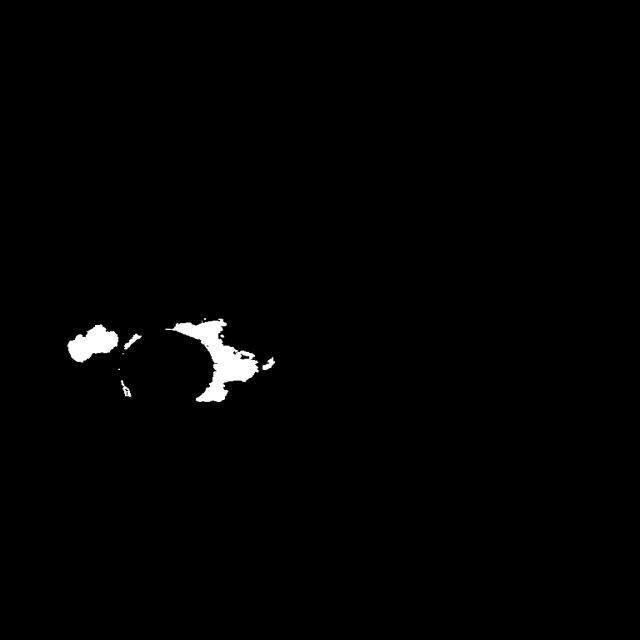fire: (23, 267, 306, 467)
